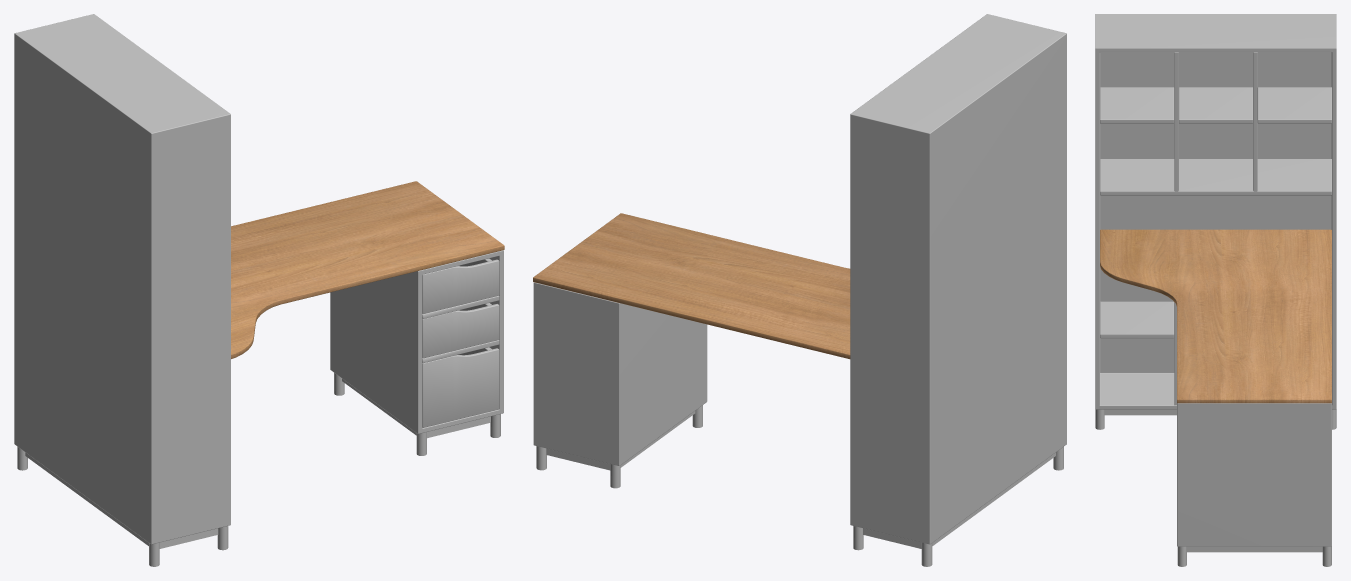
The model's file is Desk.fbx.
3 views of the same model, side by side, from view 1: azimuth 30°, elevation 25°; view 2: azimuth 150°, elevation 25°; view 3: azimuth 270°, elevation 25° (orthographic). The views are drawn at different scales.
Parts seen in each view (by area): view 1: Desk, Drawer_3, Drawer_1, Drawer_2; view 2: Desk; view 3: Desk.
Boxes of the visible parts, x1,y1,x2,y2 form: Desk: [14, 14, 504, 566]; Drawer_3: [422, 347, 499, 427]; Drawer_1: [422, 258, 499, 313]; Drawer_2: [422, 303, 499, 358]; Desk: [533, 14, 1066, 566]; Desk: [1095, 14, 1336, 566].
Size of the model in its own units: 175 by 182 by 104.
